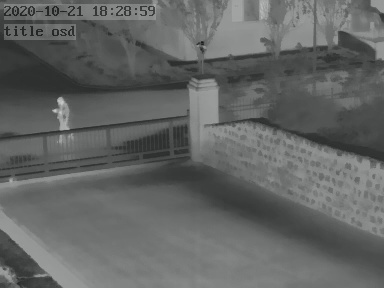person: (53, 96, 73, 131)
